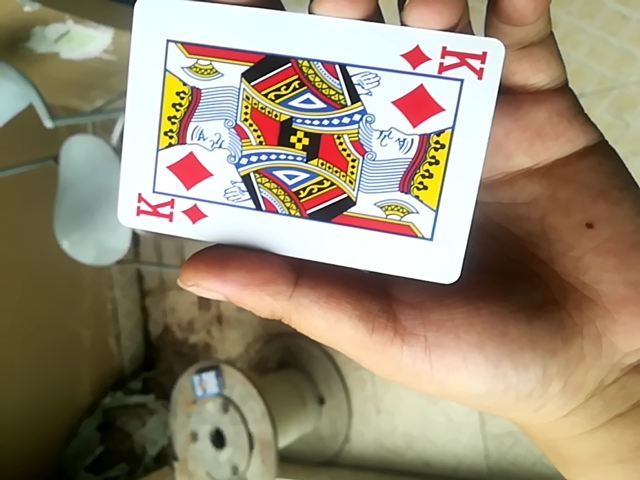fk k: (115, 1, 500, 287)
